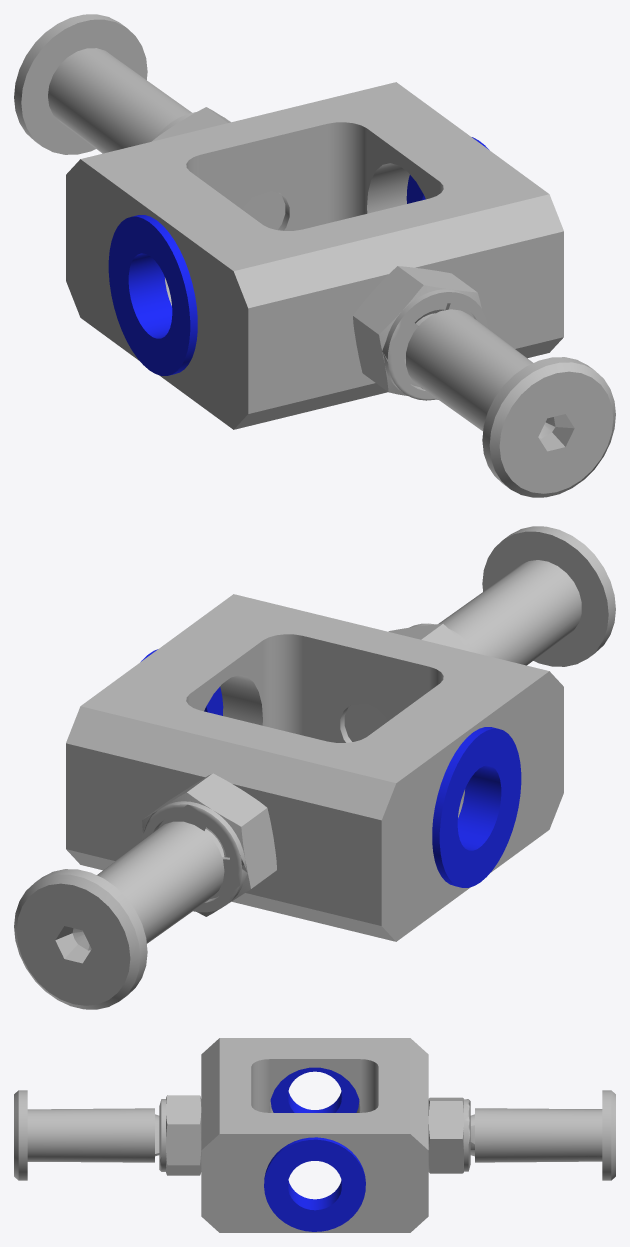
Rendered from head_base_link.dae.
3 views of the same model, one above another, from view 1: azimuth 30°, elevation 25°; view 2: azimuth 150°, elevation 25°; view 3: azimuth 270°, elevation 25° (orthographic). The views are drawn at different scales.
Visible parts, largest first — view 1: FBXASC227FBXASC130FBXASC189FBXASC227FBXASC131FBXASC170FBXASC (×6); view 2: FBXASC227FBXASC130FBXASC189FBXASC227FBXASC131FBXASC170FBXASC (×6); view 3: FBXASC227FBXASC130FBXASC189FBXASC227FBXASC131FBXASC170FBXASC (×7).
Part boxes in pixels (box(x1,y1,x2,y2)): FBXASC227FBXASC130FBXASC189FBXASC227FBXASC131FBXASC170FBXASC (×6): box(14, 14, 615, 497); FBXASC227FBXASC130FBXASC189FBXASC227FBXASC131FBXASC170FBXASC (×6): box(14, 526, 615, 1009); FBXASC227FBXASC130FBXASC189FBXASC227FBXASC131FBXASC170FBXASC (×7): box(14, 1038, 615, 1232).
Size of the model in its own units: 0.0262 by 0.0662 by 0.012.
